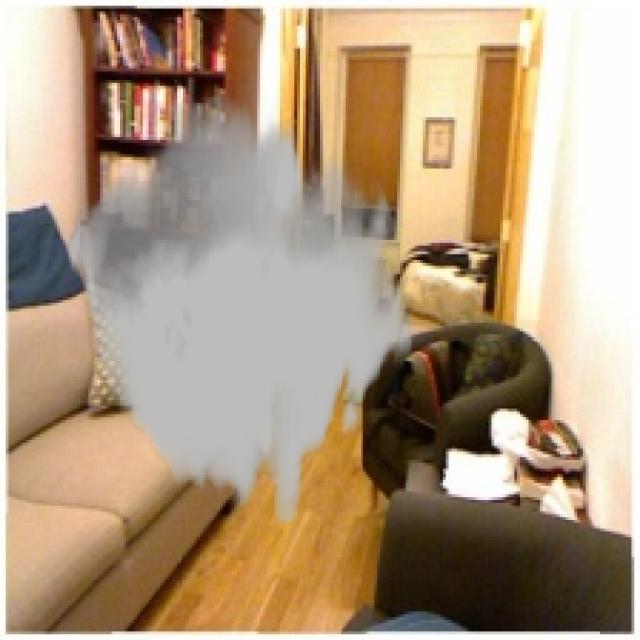smoke: (66, 97, 414, 523)
